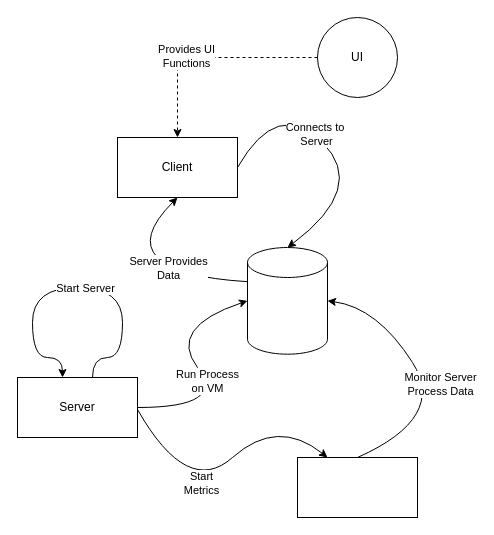
The diagram is 494 pixels wide and 535 high, and some of its shapes have lost their labels. The shapes that lost their labels are listed below. From the top down, each one's box as (x1, y1, x2, y2) in pixels, then its label:
(246, 246, 328, 354): GCP VM
(296, 456, 418, 518): Metrics
